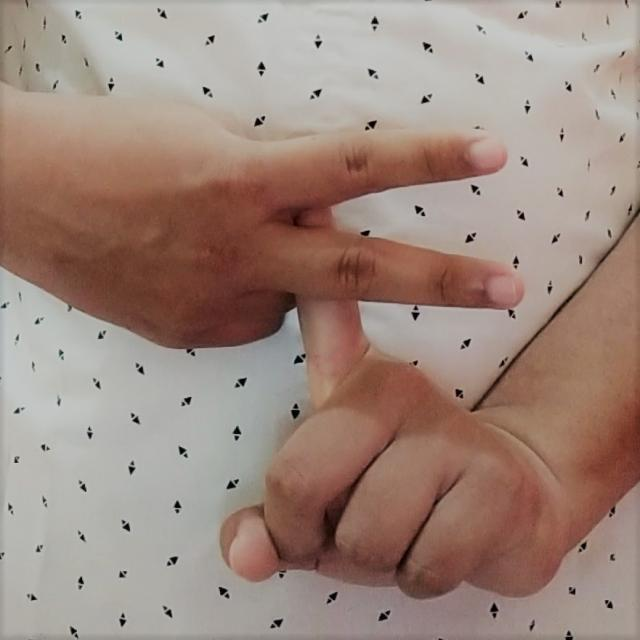F: (29, 74, 591, 609)
